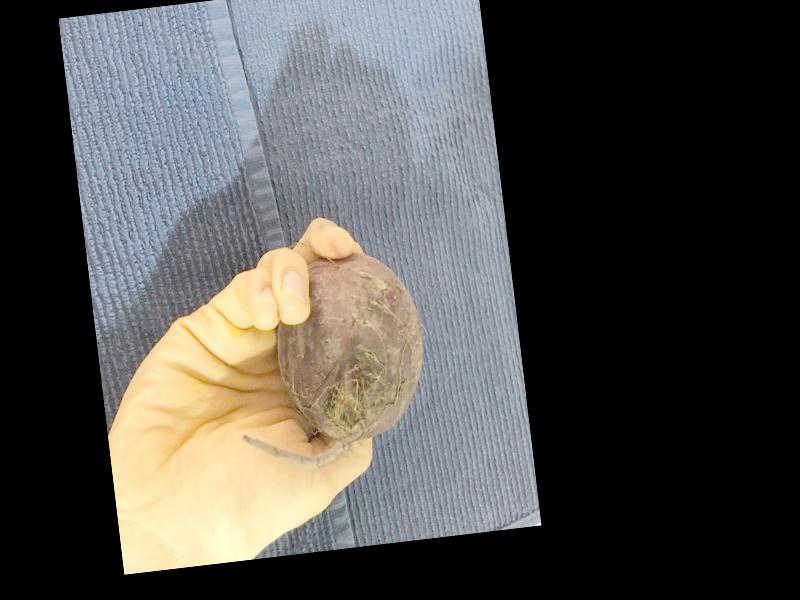Beet: (220, 247, 434, 473)
